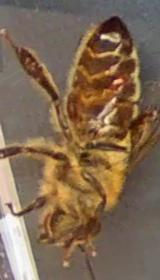varroa_mite: (108, 69, 132, 96)
